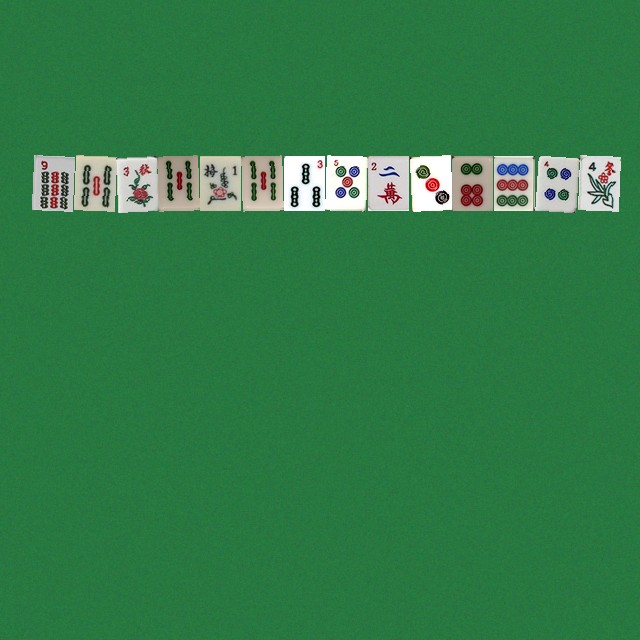tile: (31, 155, 72, 210), (73, 155, 114, 210), (115, 155, 156, 210), (157, 155, 198, 210), (199, 155, 240, 210), (241, 155, 282, 210), (283, 155, 324, 210), (325, 155, 366, 210), (367, 155, 408, 210), (409, 155, 450, 210), (451, 155, 492, 210), (493, 155, 534, 210), (535, 155, 576, 210), (577, 155, 618, 210)
